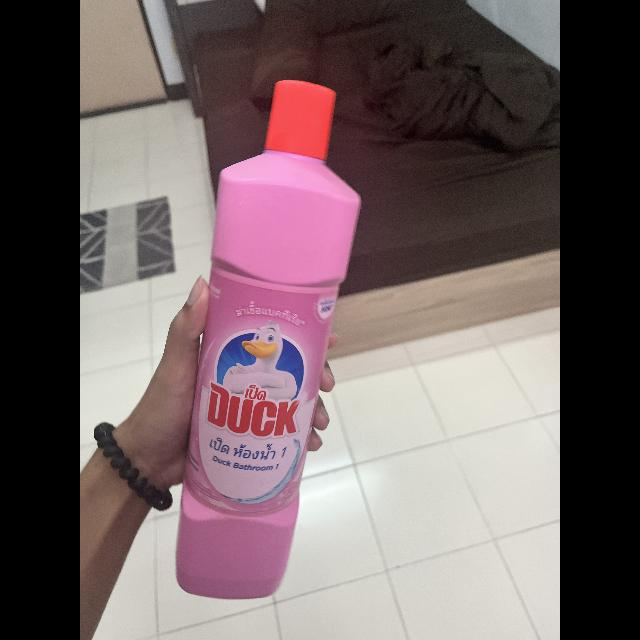chemical_plastic_bottle: (171, 68, 367, 606)
